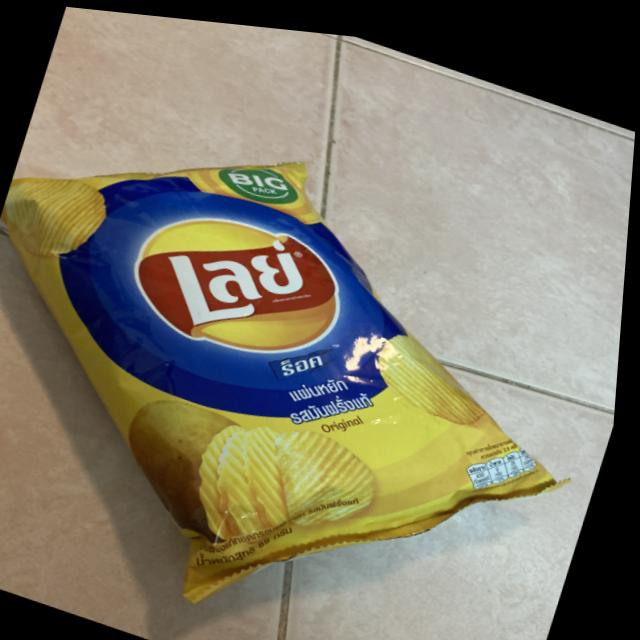LayYellow: (0, 85, 594, 640)
